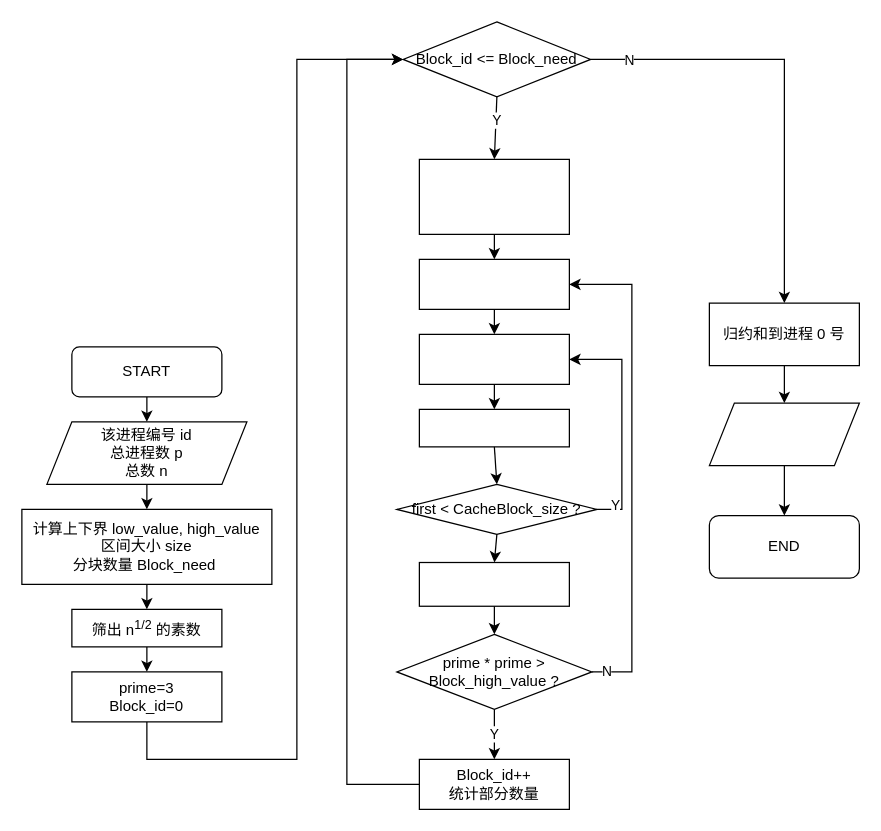
Some shapes in this 881 by 831 pixel diagram are drawn without their labels. The centre of each missing label's shape, as x and y in pixels:
first += prime: (x=493, y=427)
取下一个素数: (x=493, y=583)
标记合数 marked[first] = 1: (x=493, y=358)
计算块内第一个需要标记的数 first: (x=493, y=283)
计算块的上下界 Block_low_value Block_high_value: (x=493, y=196)
输出总素数数量: (x=783, y=434)
